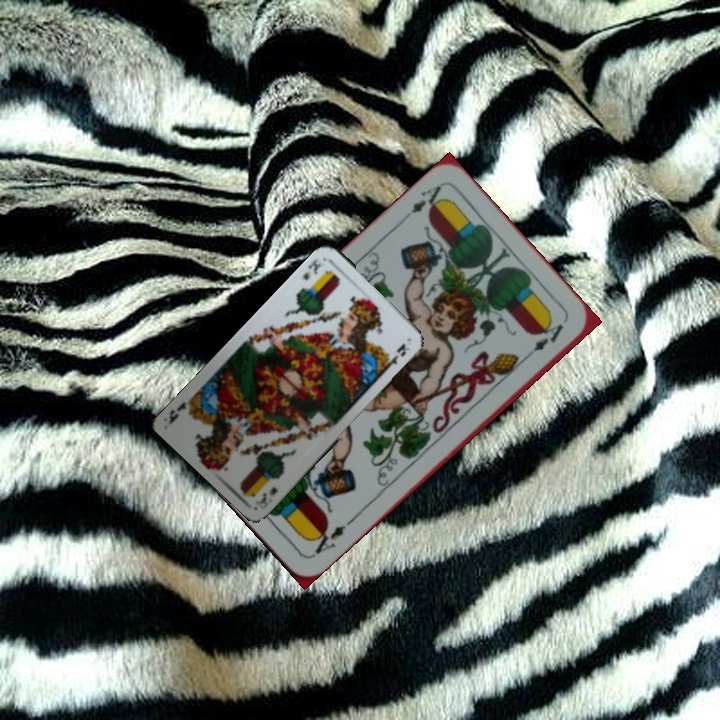EA: (306, 515, 356, 560), (406, 181, 448, 217)
EK: (254, 483, 280, 511), (299, 255, 324, 282)
